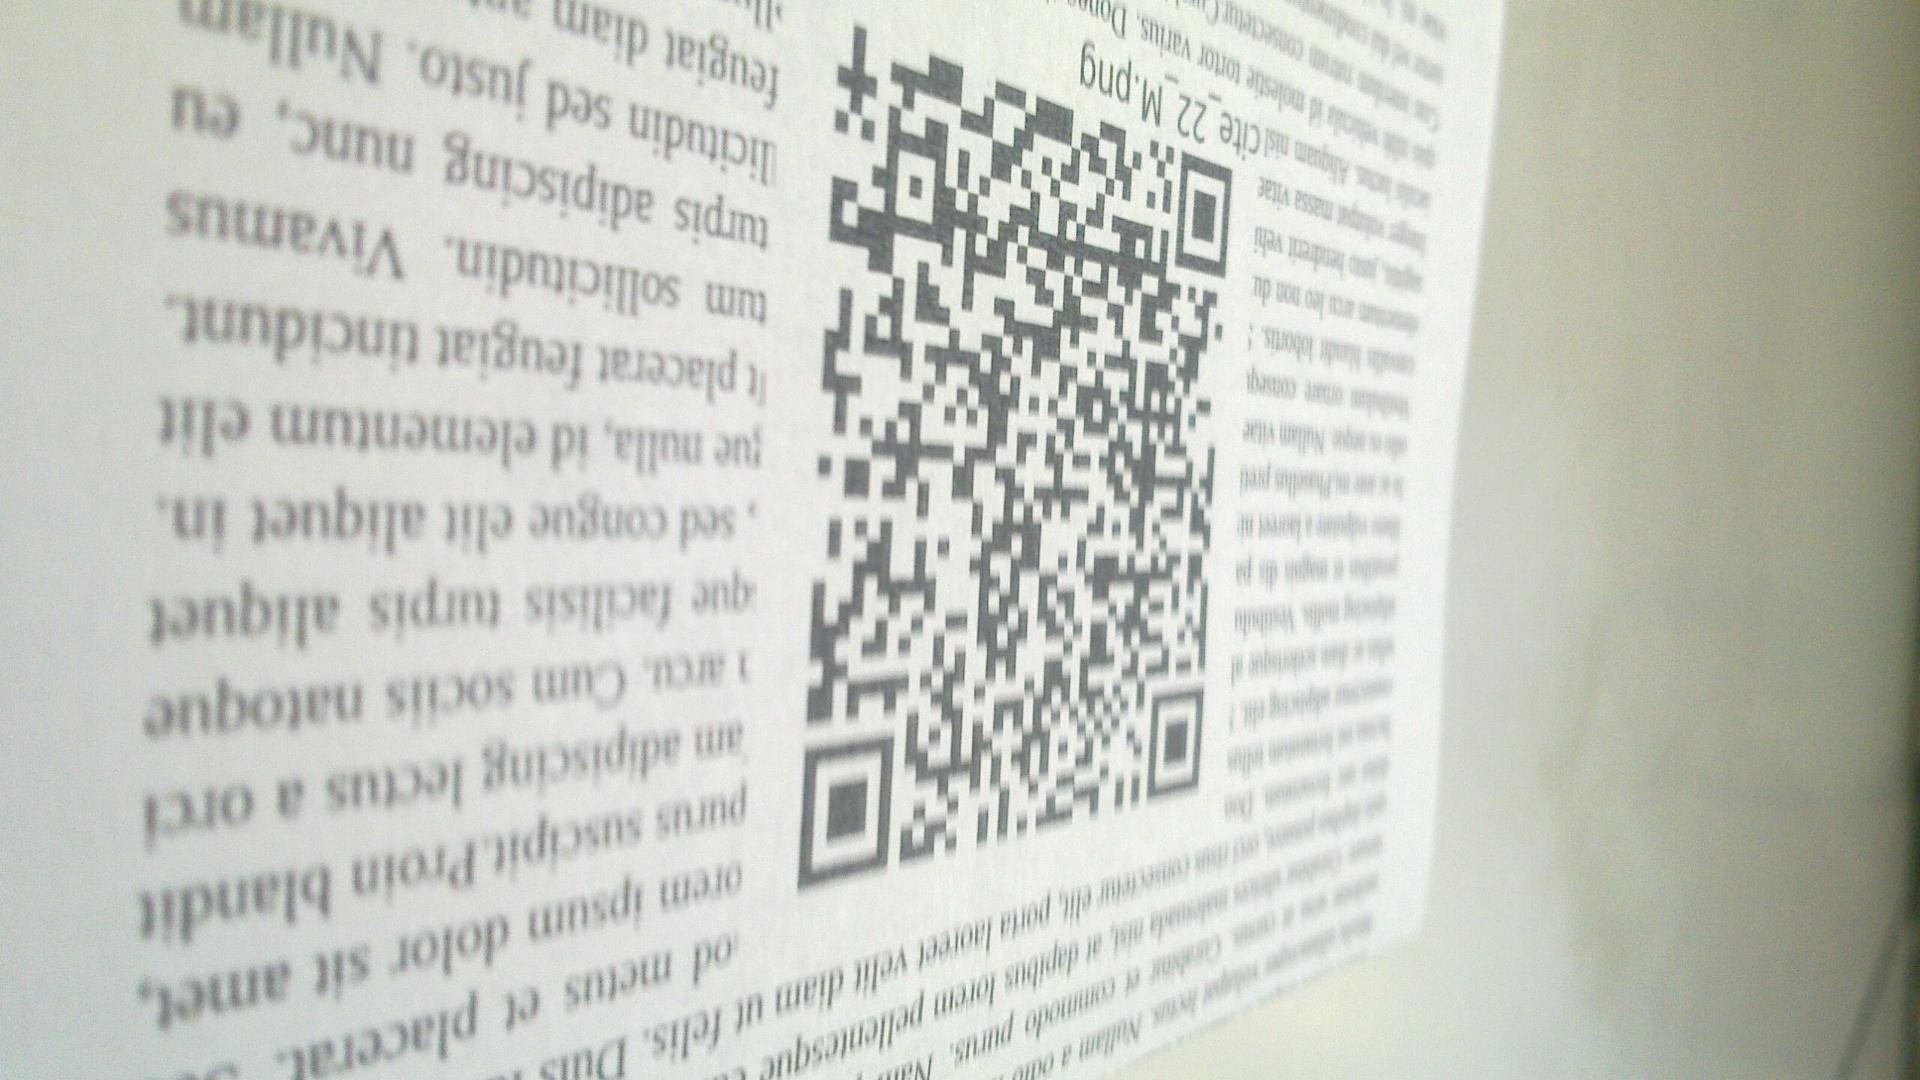qr_code: (796, 24, 1234, 893)
